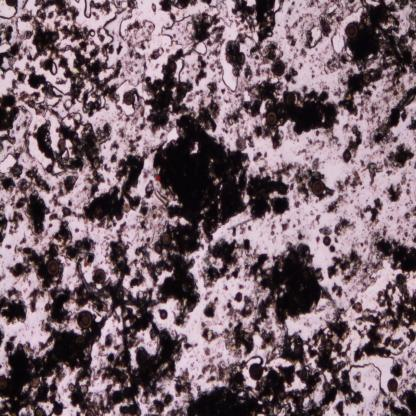Air bubble: (321, 369, 363, 415), (310, 25, 324, 49), (50, 62, 58, 77)
Background material: (153, 112, 250, 255), (32, 0, 121, 116), (0, 313, 101, 415), (338, 0, 416, 116), (174, 363, 320, 415), (100, 216, 137, 415), (250, 242, 336, 327), (134, 242, 204, 324), (352, 276, 416, 362), (243, 82, 341, 138), (35, 120, 113, 184), (133, 325, 189, 414), (142, 48, 196, 131), (62, 238, 106, 313), (366, 85, 416, 150), (246, 152, 292, 222), (305, 307, 352, 375), (14, 163, 53, 240), (122, 1, 154, 90), (111, 154, 158, 210), (8, 242, 66, 287), (203, 235, 253, 287), (203, 318, 259, 362), (0, 0, 34, 71), (367, 231, 416, 276), (184, 81, 224, 135), (81, 182, 125, 228), (260, 324, 308, 366), (250, 0, 286, 54), (0, 64, 22, 150), (190, 9, 226, 53), (381, 372, 416, 416), (282, 156, 322, 192), (42, 287, 78, 326), (224, 34, 253, 82), (326, 244, 362, 282), (46, 206, 78, 247), (23, 63, 56, 98), (316, 0, 346, 38), (254, 42, 282, 82), (138, 203, 168, 240), (0, 287, 28, 326), (0, 196, 22, 245), (356, 194, 382, 232), (18, 89, 53, 116), (246, 124, 284, 148), (230, 1, 256, 35), (51, 173, 77, 206), (220, 100, 245, 134), (225, 289, 255, 316), (0, 159, 23, 192), (386, 144, 414, 171), (386, 174, 413, 200), (360, 153, 384, 182), (158, 0, 213, 12), (340, 123, 362, 152), (324, 191, 349, 215), (294, 138, 325, 156), (193, 50, 208, 87), (337, 170, 362, 191), (388, 219, 416, 237), (27, 288, 46, 313), (326, 52, 348, 73), (333, 216, 356, 235), (90, 0, 112, 19), (202, 296, 219, 320), (284, 21, 300, 46), (291, 188, 308, 211), (21, 128, 34, 158), (406, 1, 416, 40), (304, 6, 313, 48), (125, 132, 142, 154), (110, 128, 124, 151), (388, 360, 404, 378), (283, 67, 299, 83), (227, 224, 251, 234), (208, 60, 224, 73), (330, 280, 343, 295), (280, 216, 292, 232), (292, 47, 308, 59), (318, 224, 332, 236), (404, 205, 416, 219), (150, 48, 164, 59), (406, 116, 416, 131), (310, 210, 321, 222), (0, 325, 6, 347), (297, 230, 307, 240), (167, 11, 176, 20), (269, 222, 275, 235)
Diatom: (76, 310, 94, 329), (250, 362, 263, 380), (46, 260, 60, 276), (93, 267, 106, 284), (346, 22, 358, 40), (273, 60, 285, 76), (312, 180, 324, 196), (284, 91, 296, 106), (387, 377, 398, 393), (266, 111, 277, 126), (161, 232, 172, 247), (236, 137, 247, 152), (53, 402, 64, 416), (123, 92, 134, 105), (0, 374, 8, 391), (29, 376, 40, 388), (342, 150, 352, 162), (354, 301, 363, 314), (75, 336, 86, 346), (322, 235, 331, 247), (58, 137, 66, 150), (84, 408, 95, 416), (155, 243, 163, 254), (34, 407, 44, 415), (160, 310, 167, 320), (109, 188, 114, 195)
Fragment: (156, 174, 161, 182)
